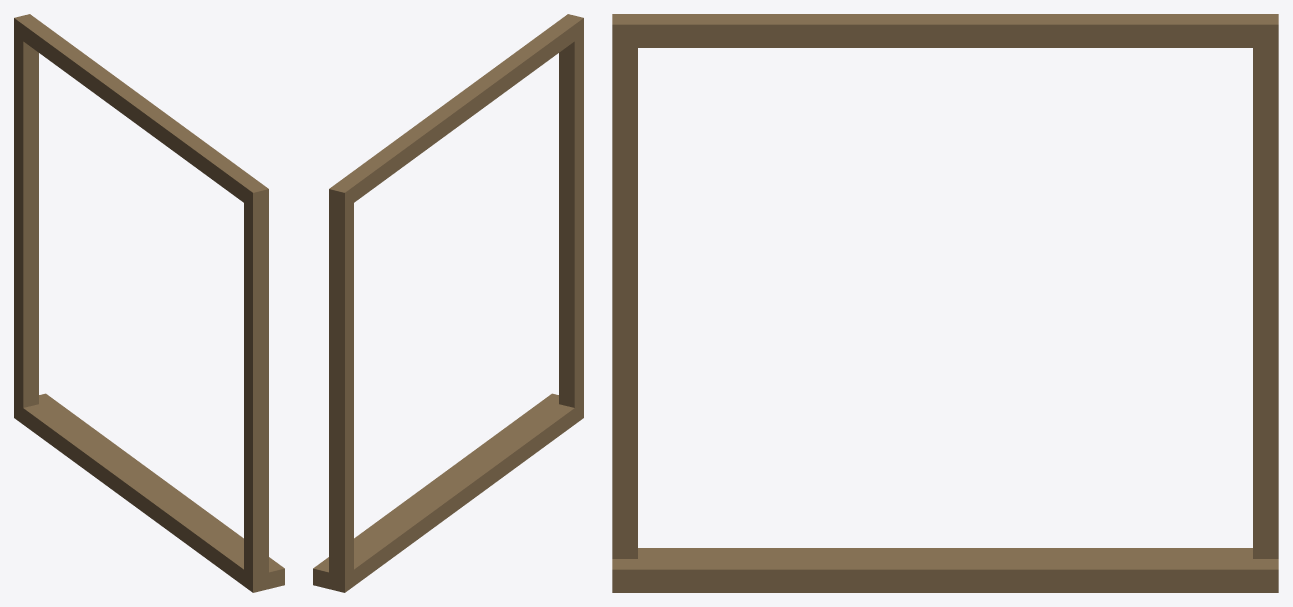
The model's file is Window00-Frame.gltf.
3 renders of one model, left to right at view 1: azimuth 30°, elevation 25°; view 2: azimuth 150°, elevation 25°; view 3: azimuth 270°, elevation 25°, orthographic. The views are drawn at different scales.
Size of the model in its own units: 2 by 24 by 26.
